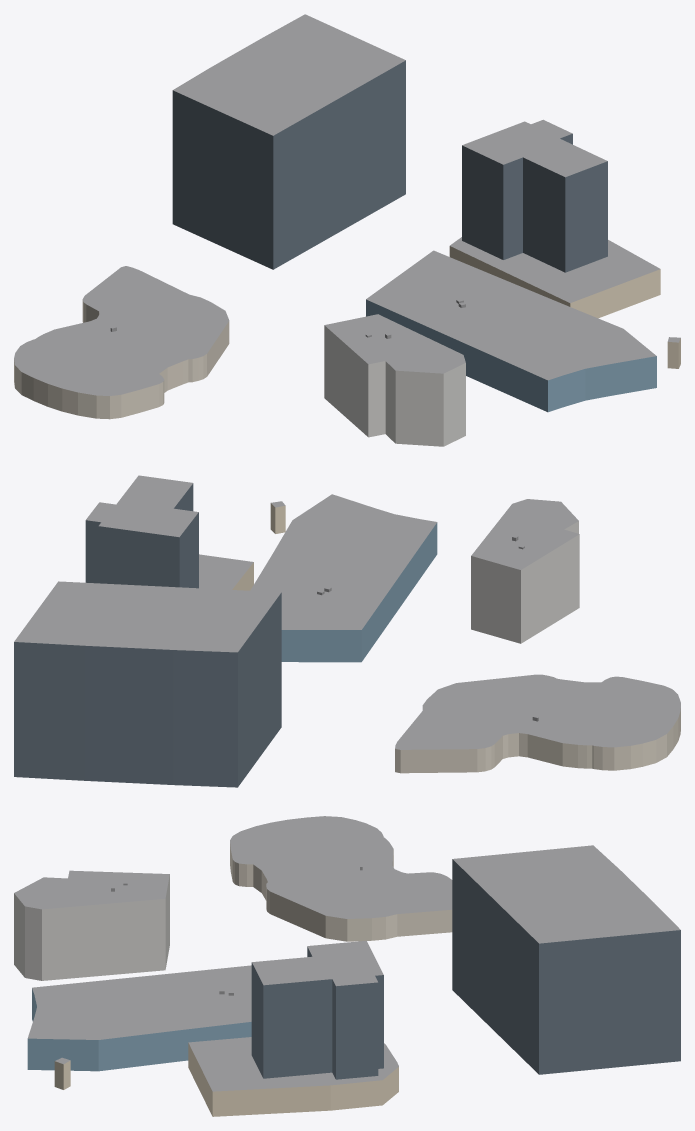
File: building_-5_5.glb
3 views of the same model, one above another, from view 1: azimuth 30°, elevation 25°; view 2: azimuth 150°, elevation 25°; view 3: azimuth 270°, elevation 25° (orthographic). The views are drawn at different scales.
Parts seen in each view (by area): view 1: roof, glass_dark, concrete_light, glass_blue, concrete_warm, sandstone; view 2: roof, glass_dark, concrete_light, concrete_warm, glass_blue, sandstone; view 3: roof, glass_dark, concrete_light, glass_blue, sandstone, concrete_warm.
Boxes of the visible parts, left/top/right/bottom form: roof: left=14, top=14, right=680, bottom=395; glass_dark: left=172, top=60, right=607, bottom=272; concrete_light: left=324, top=325, right=465, bottom=446; glass_blue: left=366, top=299, right=656, bottom=412; concrete_warm: left=14, top=299, right=229, bottom=419; sandstone: left=449, top=246, right=680, bottom=368; roof: left=14, top=475, right=680, bottom=749; glass_dark: left=14, top=483, right=281, bottom=787; concrete_light: left=471, top=521, right=579, bottom=643; concrete_warm: left=395, top=708, right=680, bottom=773; glass_blue: left=281, top=522, right=437, bottom=662; sandstone: left=232, top=503, right=285, bottom=590; roof: left=14, top=816, right=680, bottom=1091; glass_dark: left=251, top=859, right=680, bottom=1079; concrete_light: left=14, top=874, right=169, bottom=980; glass_blue: left=27, top=988, right=251, bottom=1071; sandstone: left=54, top=1043, right=398, bottom=1116; concrete_warm: left=230, top=844, right=452, bottom=941.
Bounding box in the file's own units: 306 × 67.2 × 310.
